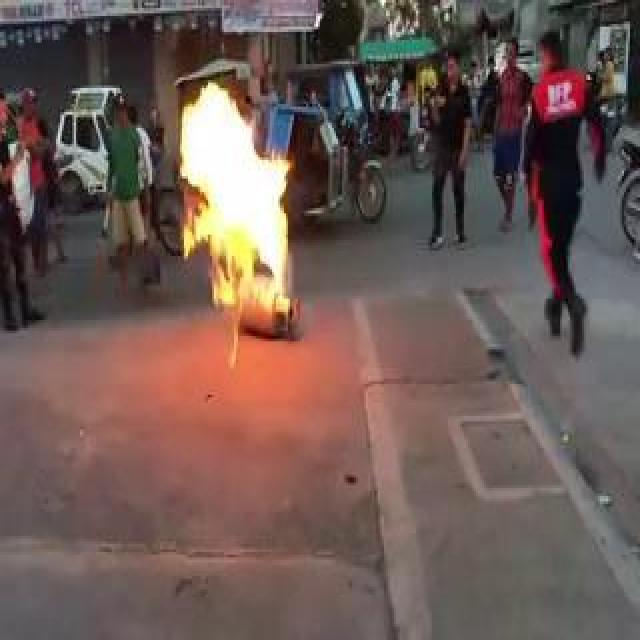Smoke: (180, 80, 298, 309)
